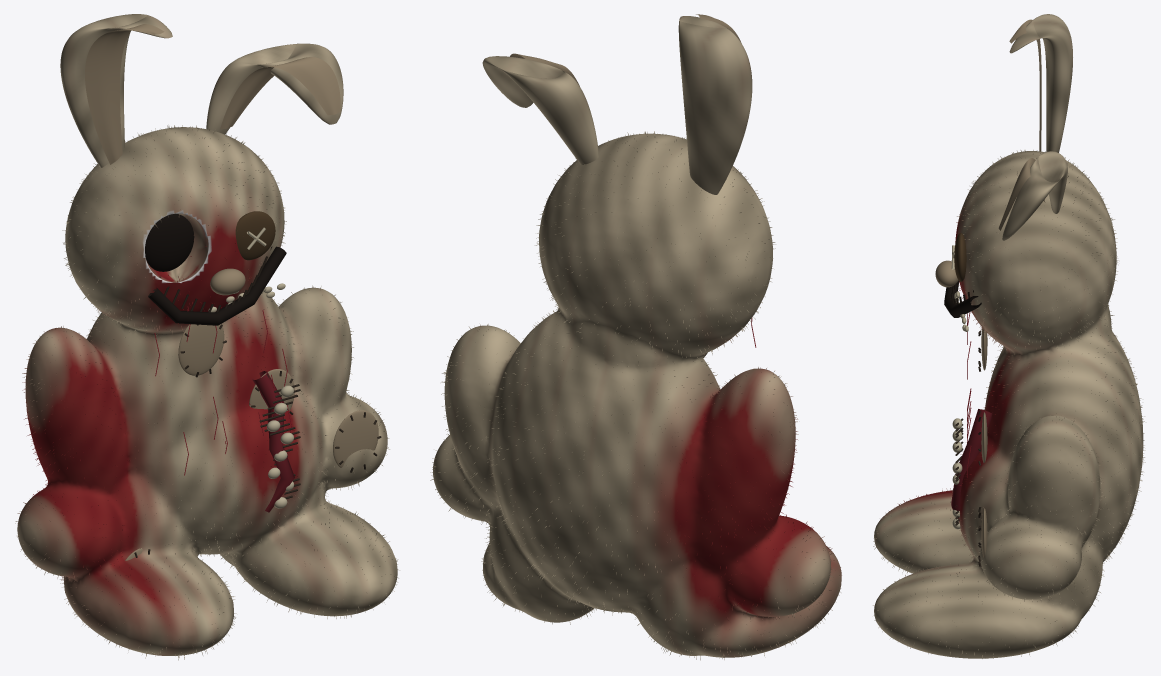
Rendered from mascot-rabbit.glb.
The picture shows the model from 3 angles, left to right: view 1: azimuth 30°, elevation 25°; view 2: azimuth 150°, elevation 25°; view 3: azimuth 270°, elevation 25°; orthographic projection. The views are drawn at different scales.
Parts seen in each view (by area): view 1: HappylandMascot; view 2: HappylandMascot; view 3: HappylandMascot.
Boxes of the visible parts, x1=… form: HappylandMascot: x1=15, y1=14, x2=399, y2=660; HappylandMascot: x1=430, y1=14, x2=841, y2=660; HappylandMascot: x1=873, y1=14, x2=1145, y2=658.
Bounding box in the file's own units: 3.17 × 4.96 × 2.25.
